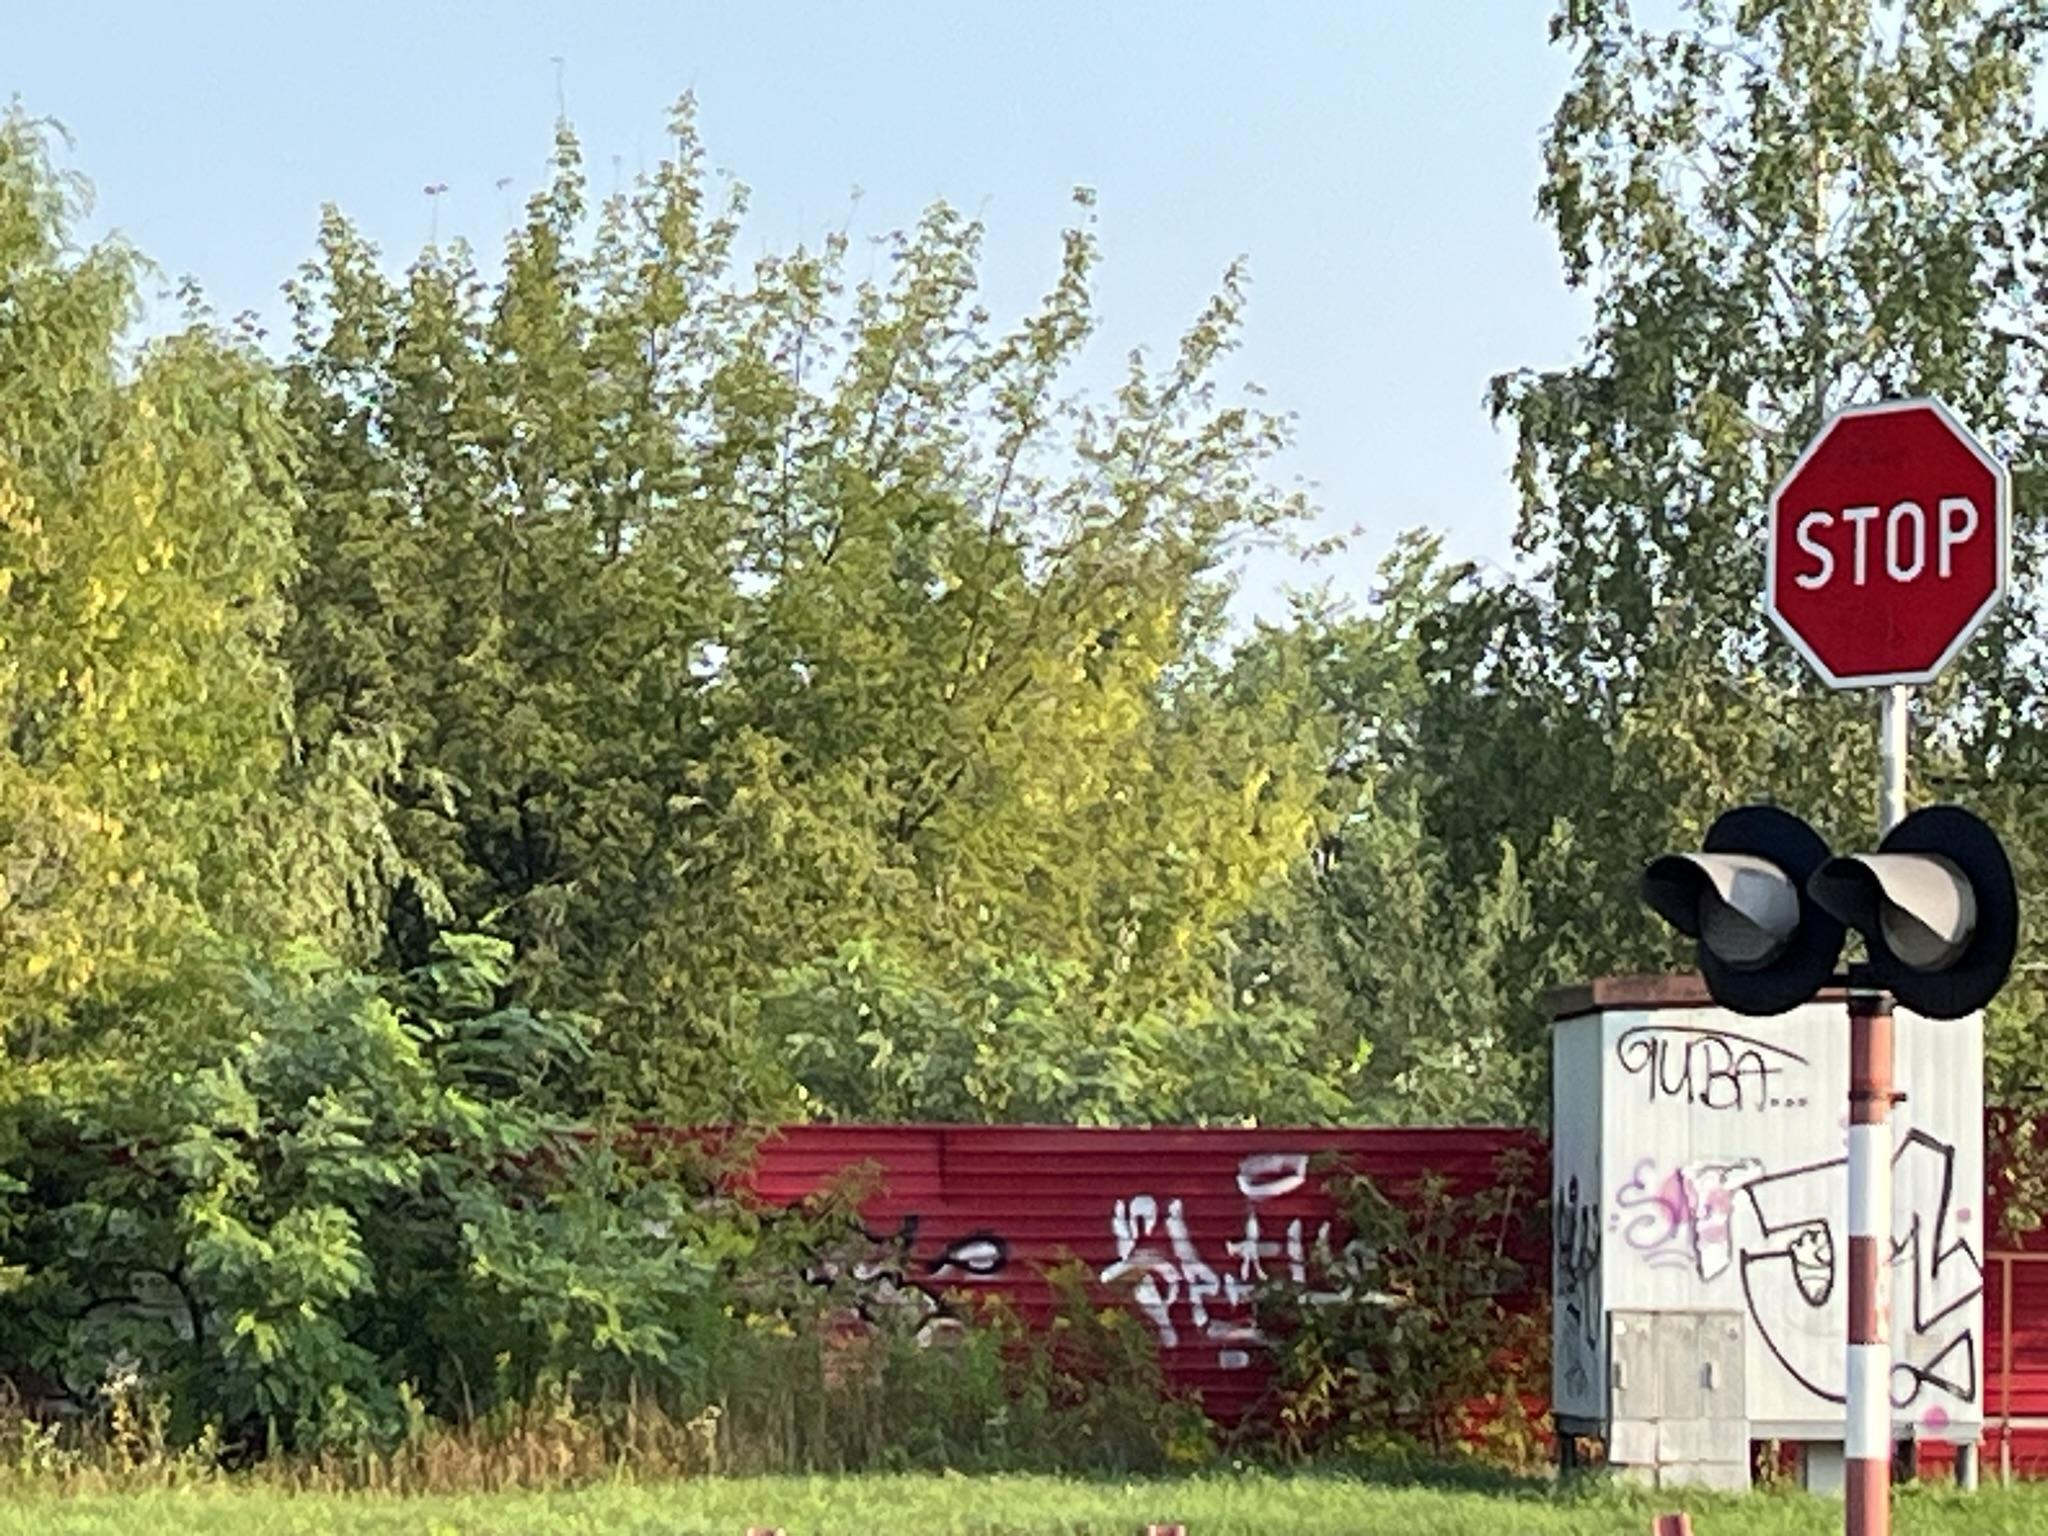prohibitory: (1767, 395, 2011, 691)
